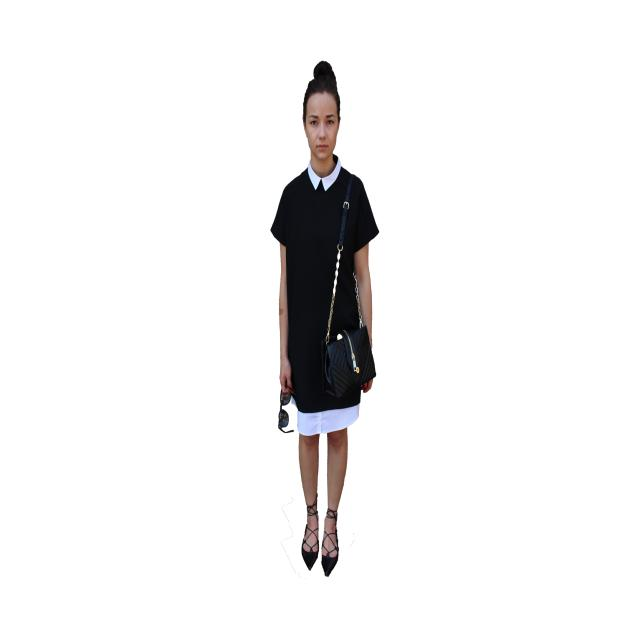jovem: (264, 61, 392, 570)
